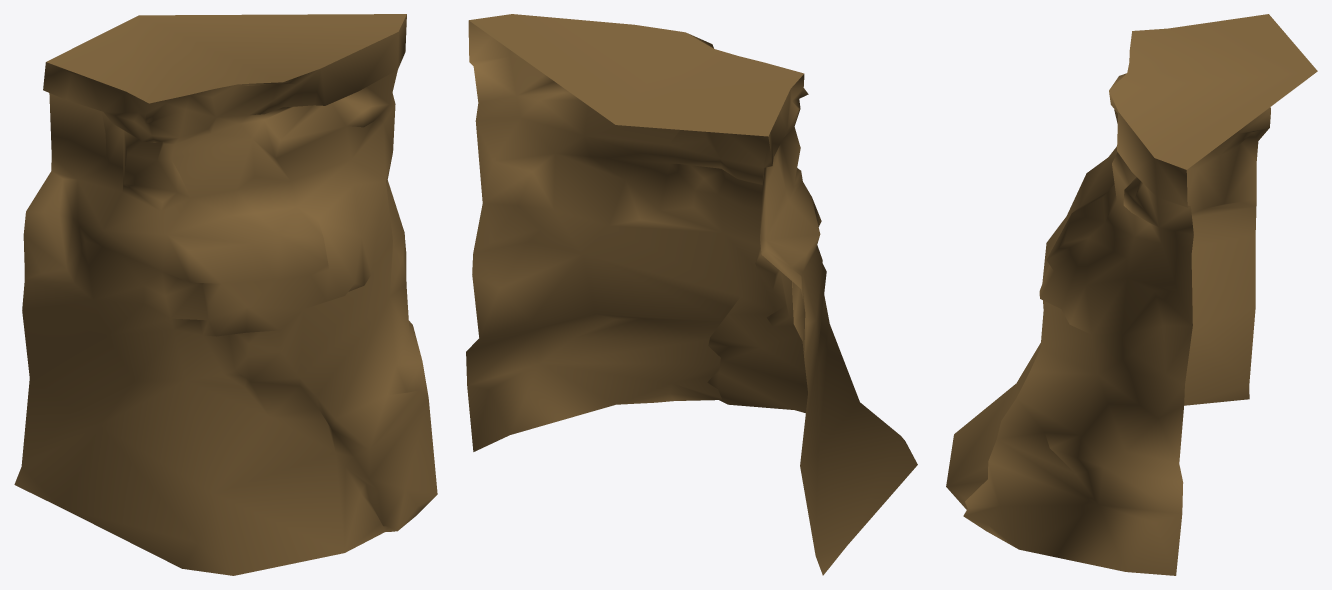
File: Cliff_Wall08.FBX
The picture shows the model from 3 angles, left to right: view 1: azimuth 30°, elevation 25°; view 2: azimuth 150°, elevation 25°; view 3: azimuth 270°, elevation 25°; orthographic projection. The views are drawn at different scales.
Parts seen in each view (by area): view 1: Cliff_Wall08; view 2: Cliff_Wall08; view 3: Cliff_Wall08.
Part boxes in pixels (<box>): Cliff_Wall08: <box>14,14,437,575</box>; Cliff_Wall08: <box>466,14,917,575</box>; Cliff_Wall08: <box>946,14,1317,575</box>.
Size of the model in its own units: 1580 by 1680 by 1394.
